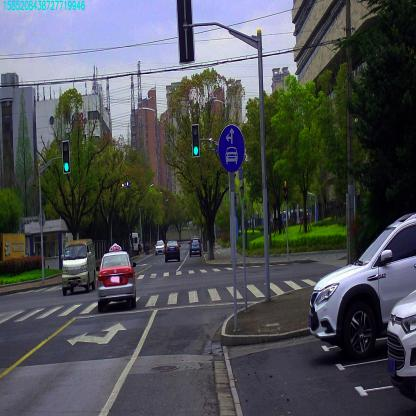traffic-light: (62, 141, 70, 172), (192, 125, 199, 157)
